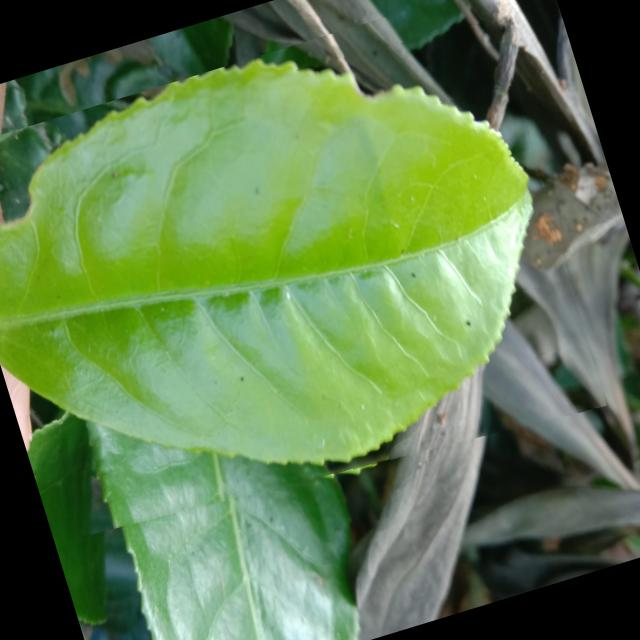Category B(2-4 days): (0, 0, 611, 571)
